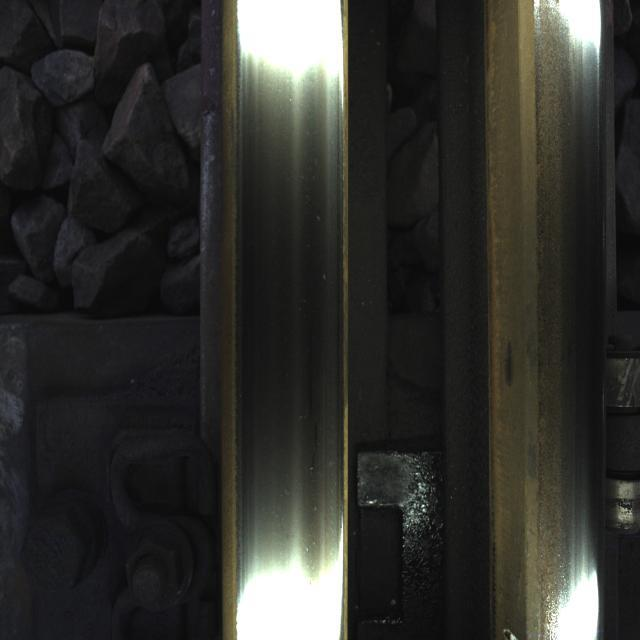break: (244, 56, 341, 632)
